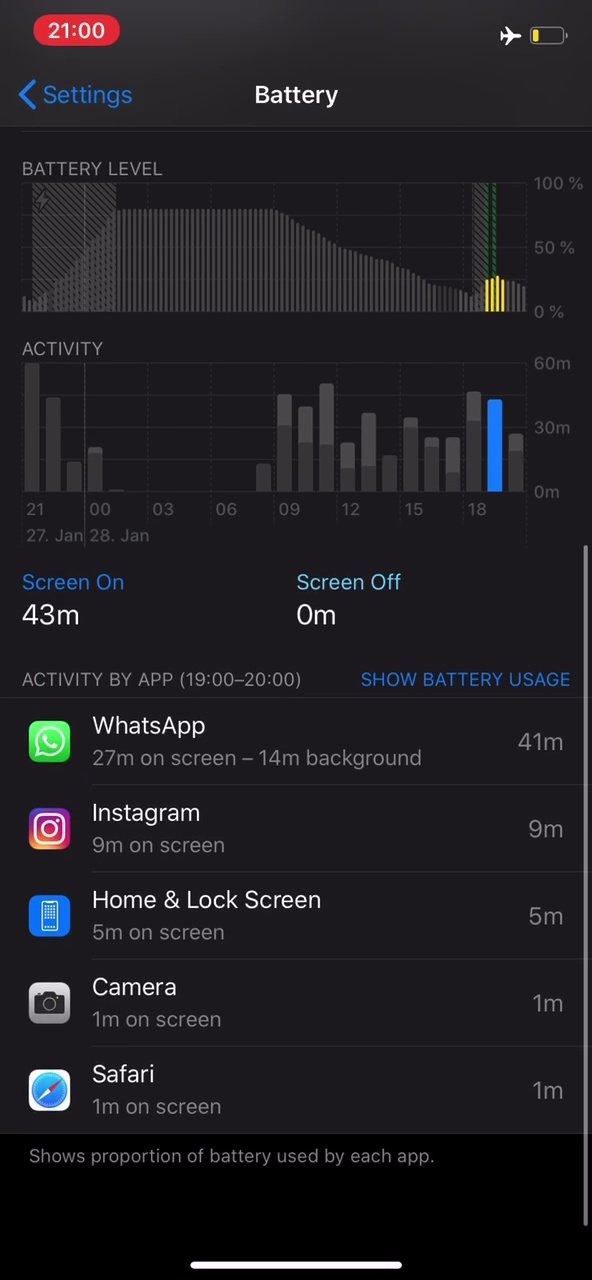activity: (4, 665, 311, 695)
app: (17, 707, 572, 777), (21, 794, 576, 861), (16, 884, 571, 951), (14, 968, 569, 1035), (16, 1057, 571, 1124)
